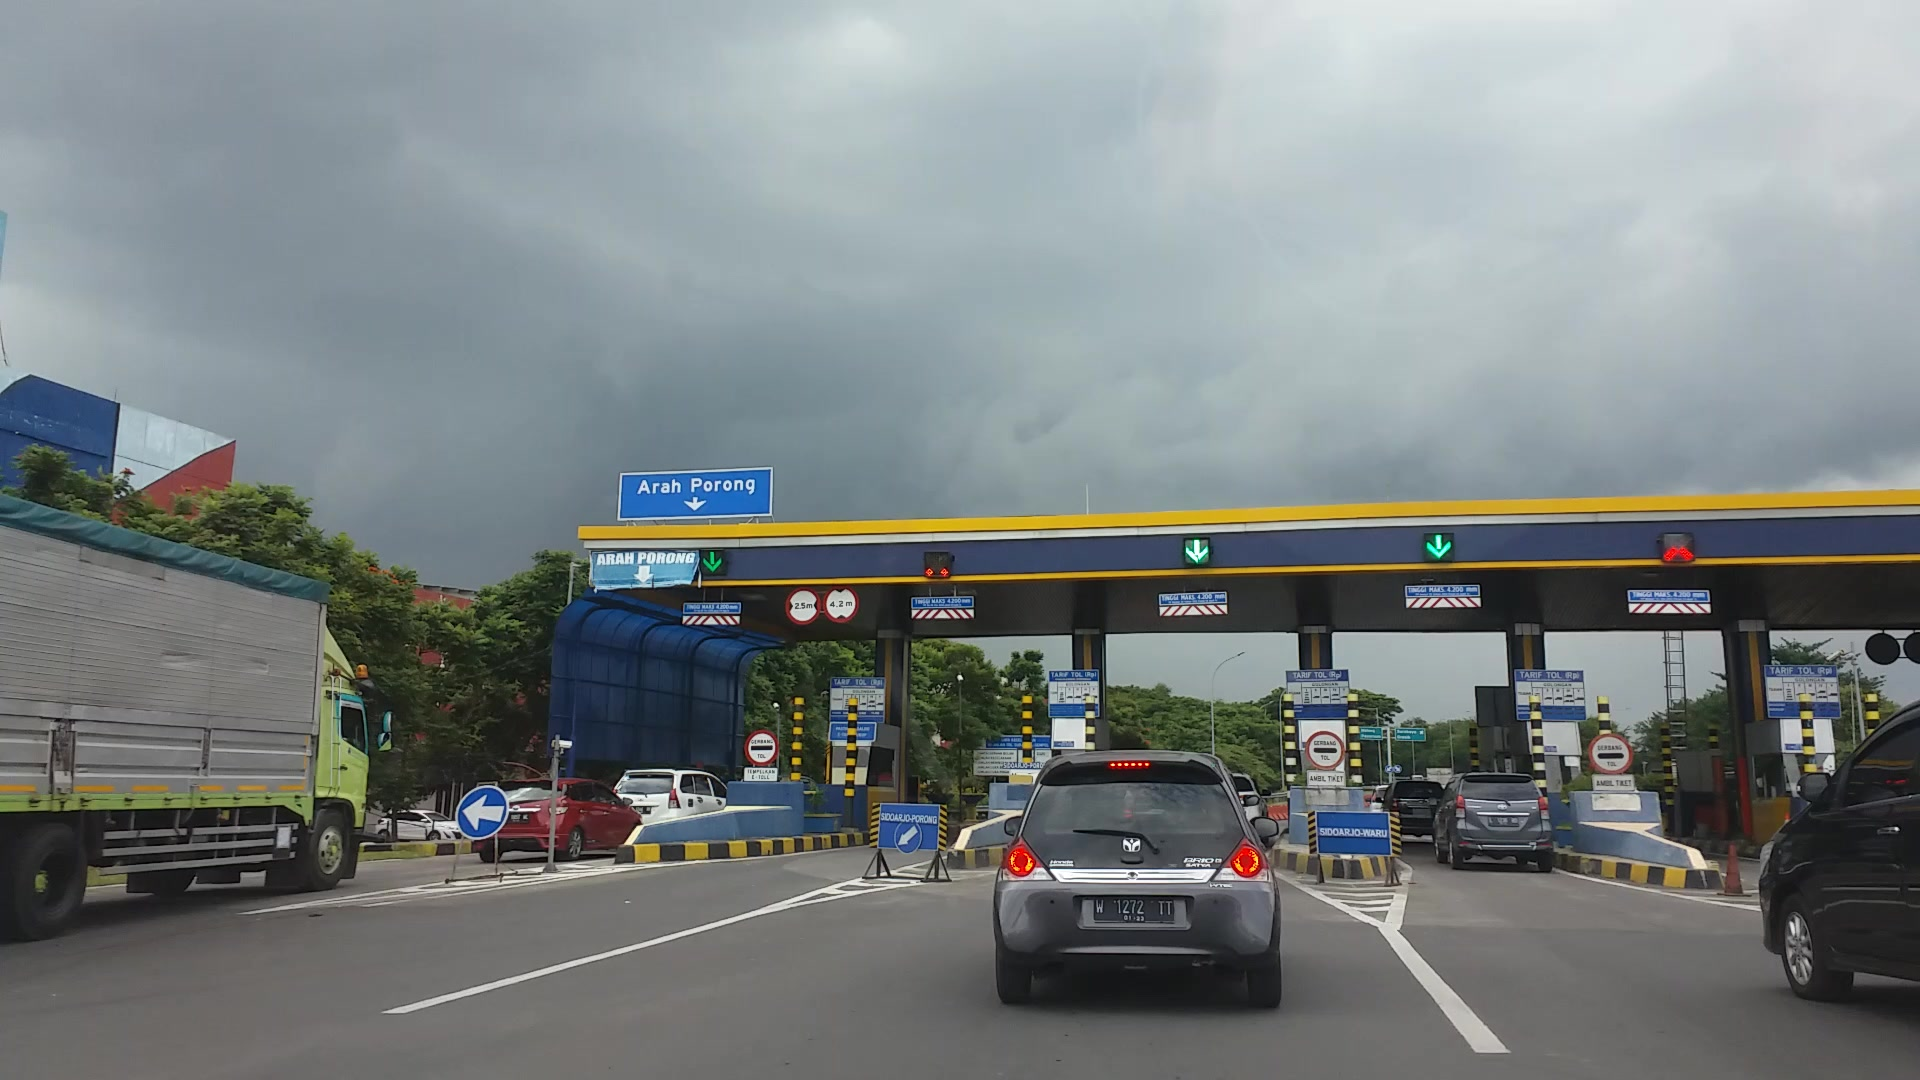plate_positive: (1093, 895, 1174, 924)
